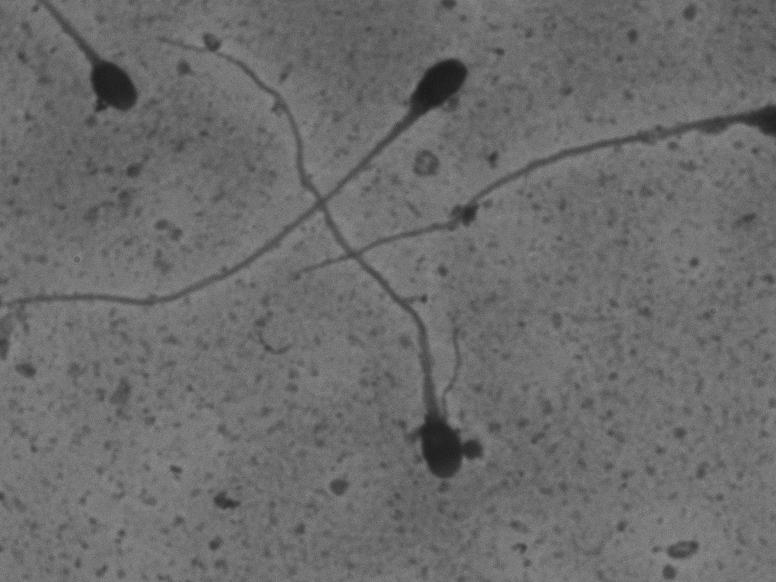Abnormal: (138, 17, 476, 500), (10, 46, 480, 316)
